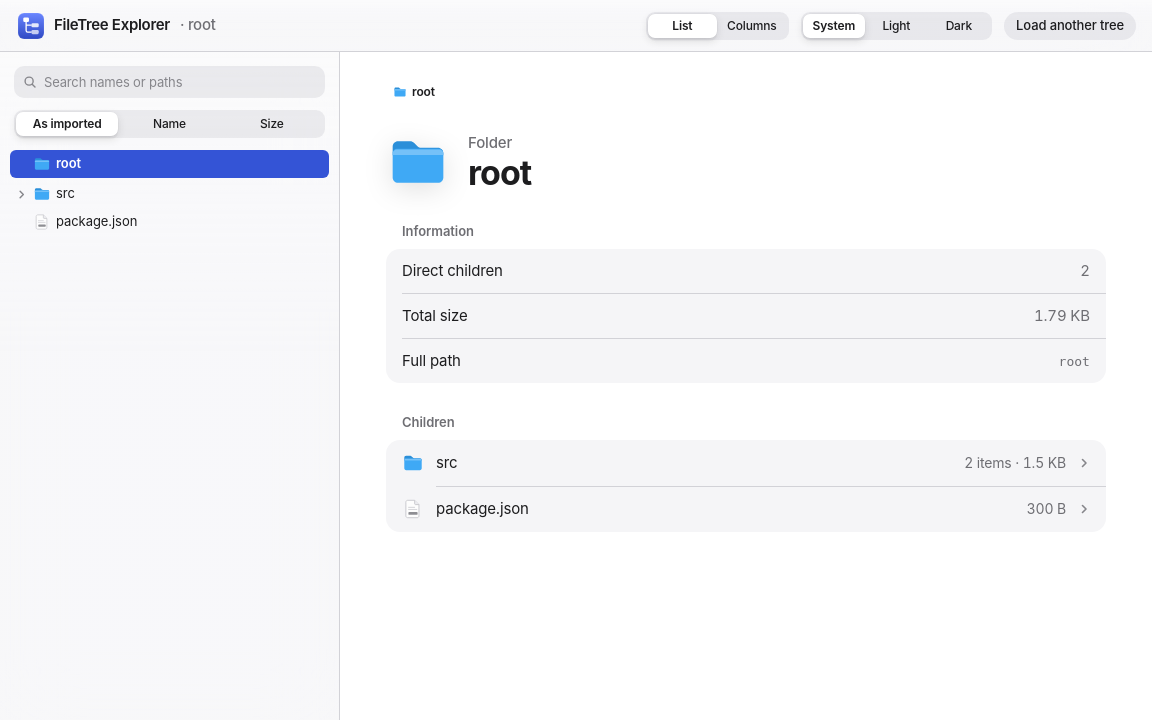
Test: browsing the tree › expands nested folders independently
The image size is (1152, 720).
Click the button named "Expand src" at (21, 194), box [12,185,30,203]
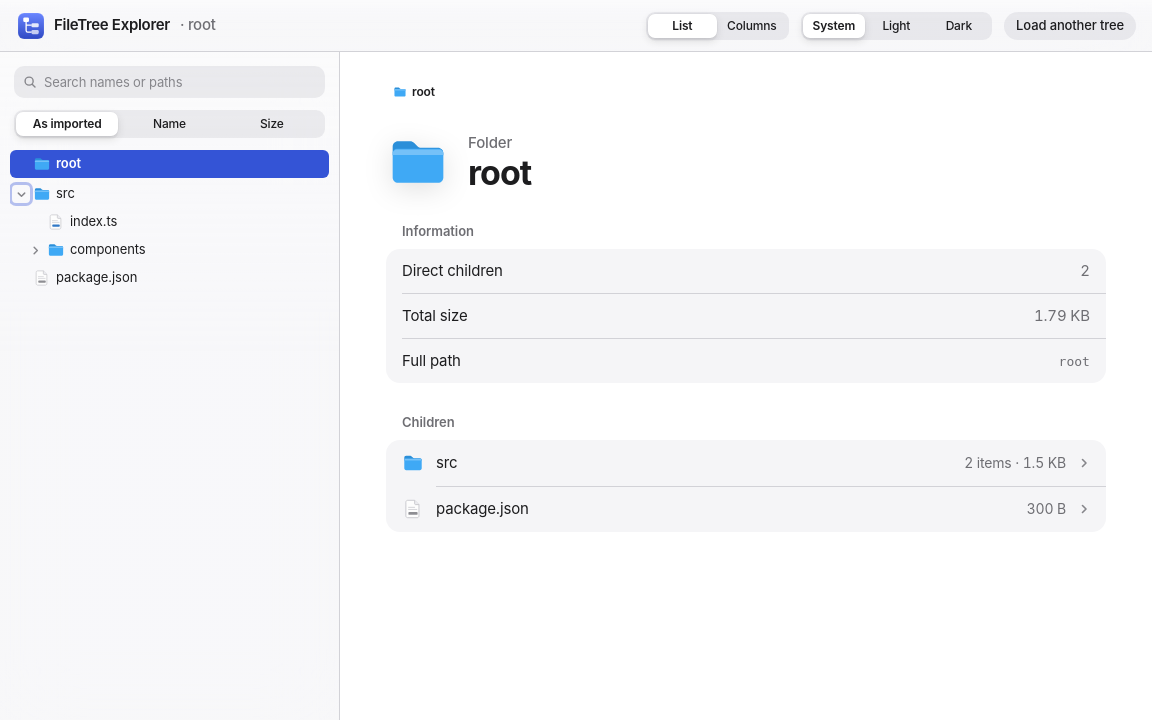
Click the button named "Expand components" at (35, 250), box [26,241,44,259]
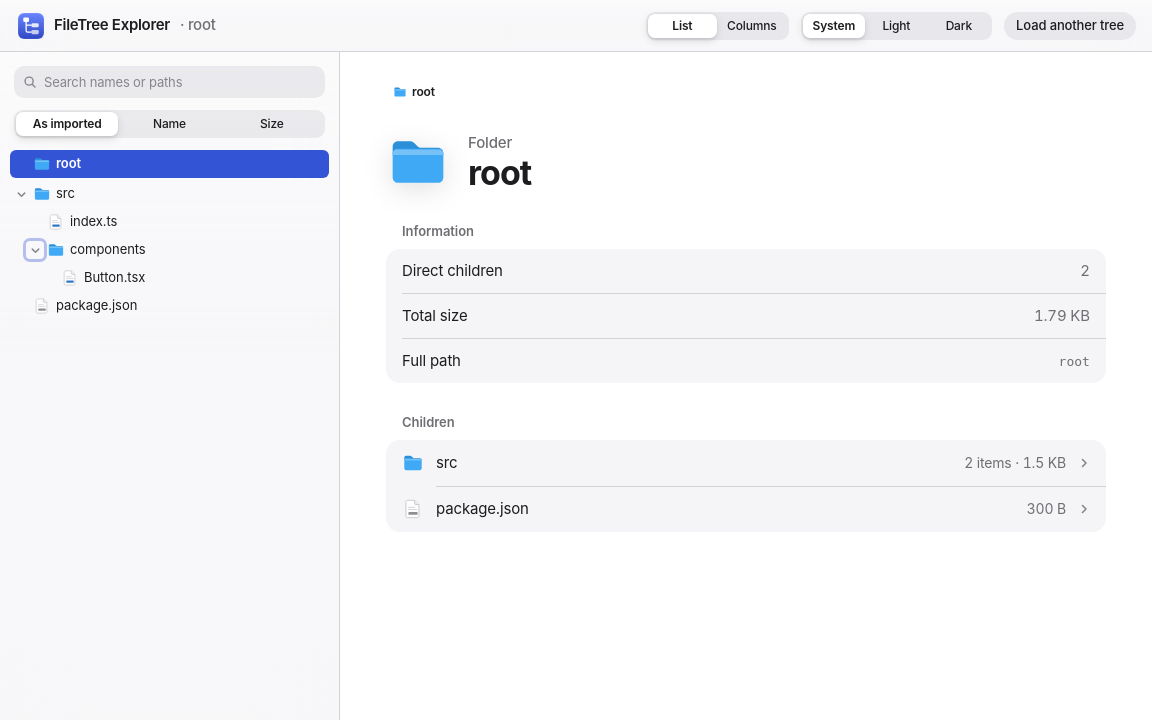
Check: the list item "Button.tsx" is shown, box [61,269,145,287]
